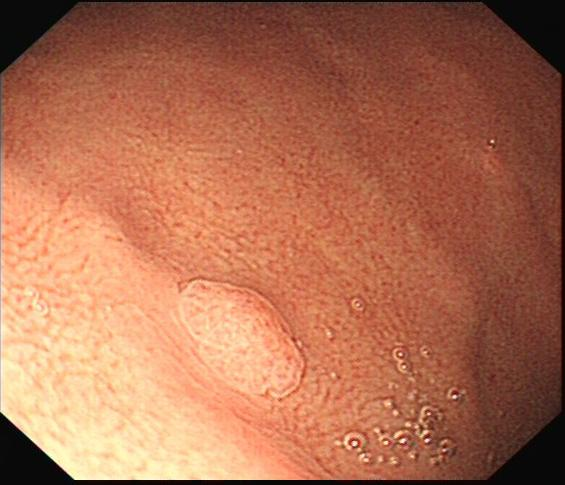Polyp: (159, 257, 357, 422)
